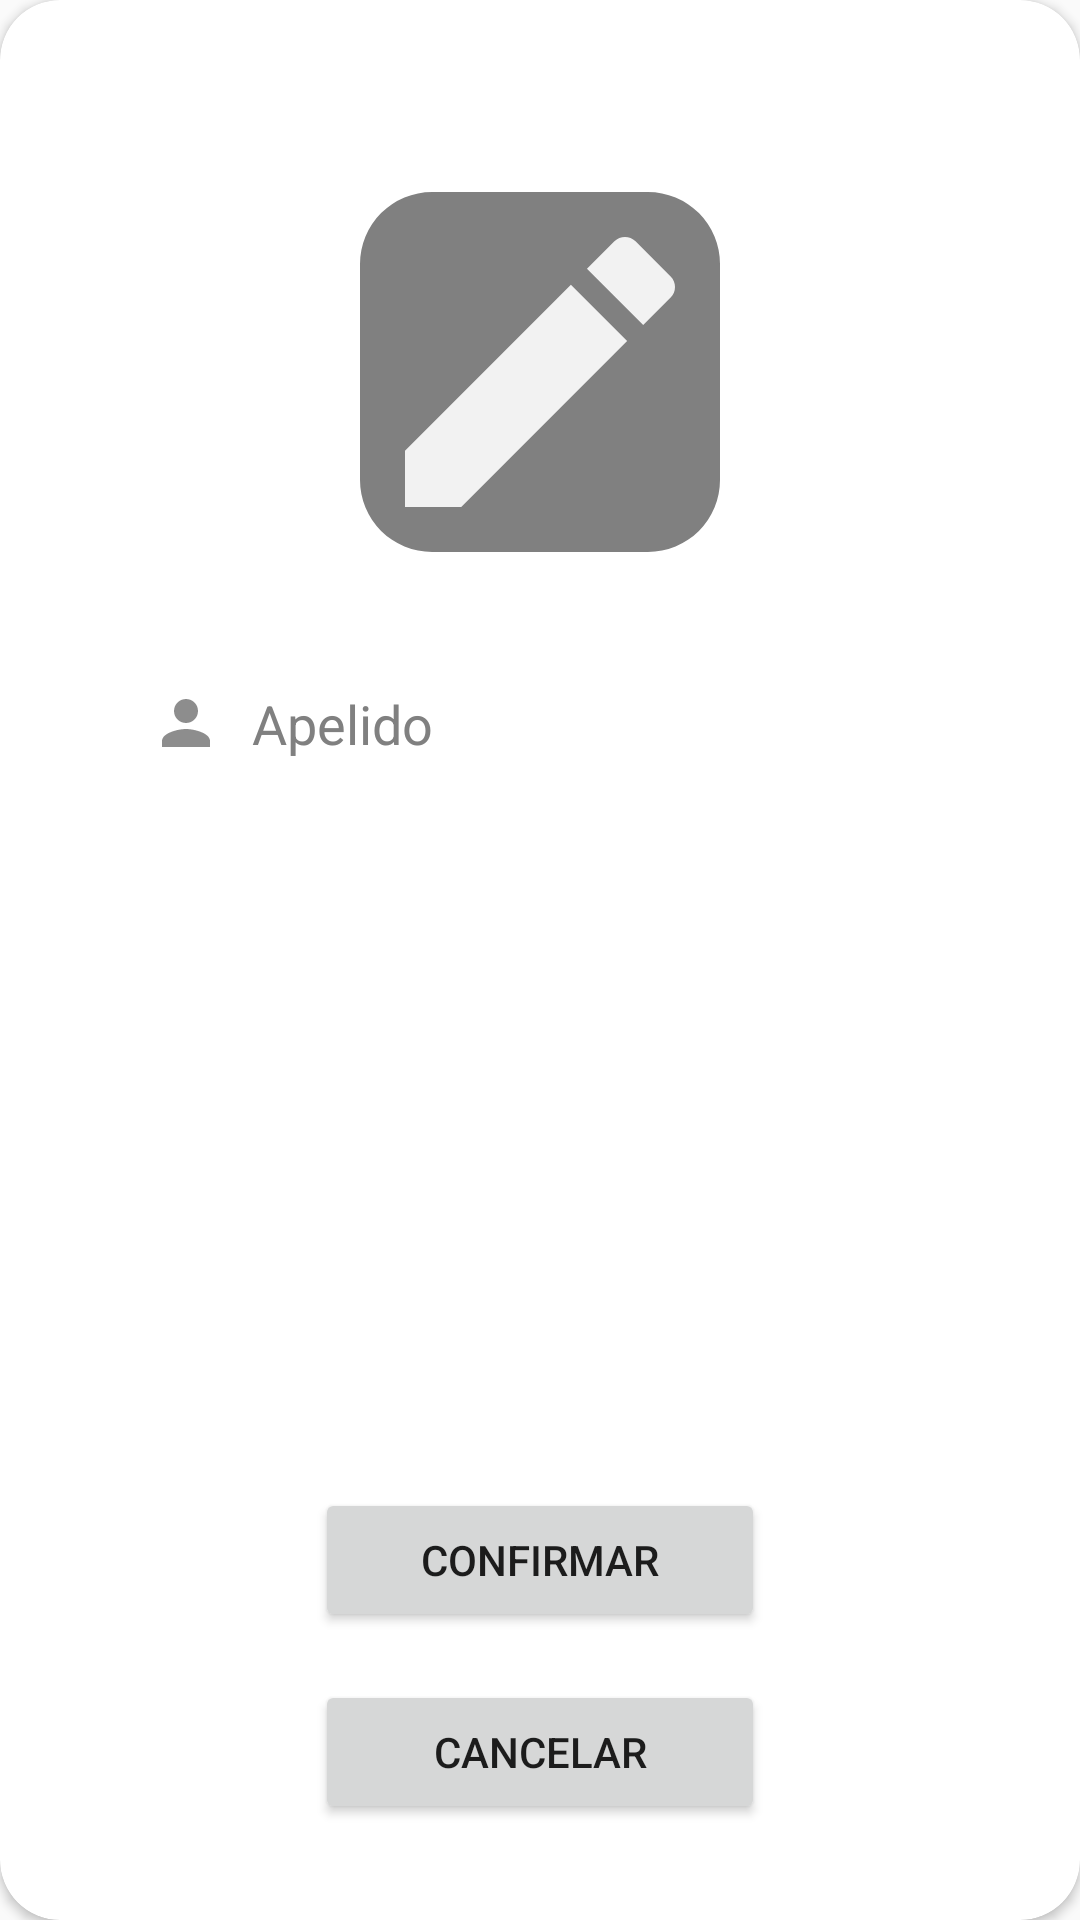

Named icons in this screenshot (1080*1920) and their bounding boxes, (x1, y1, x2, y2):
edit: (360, 192, 720, 552)
